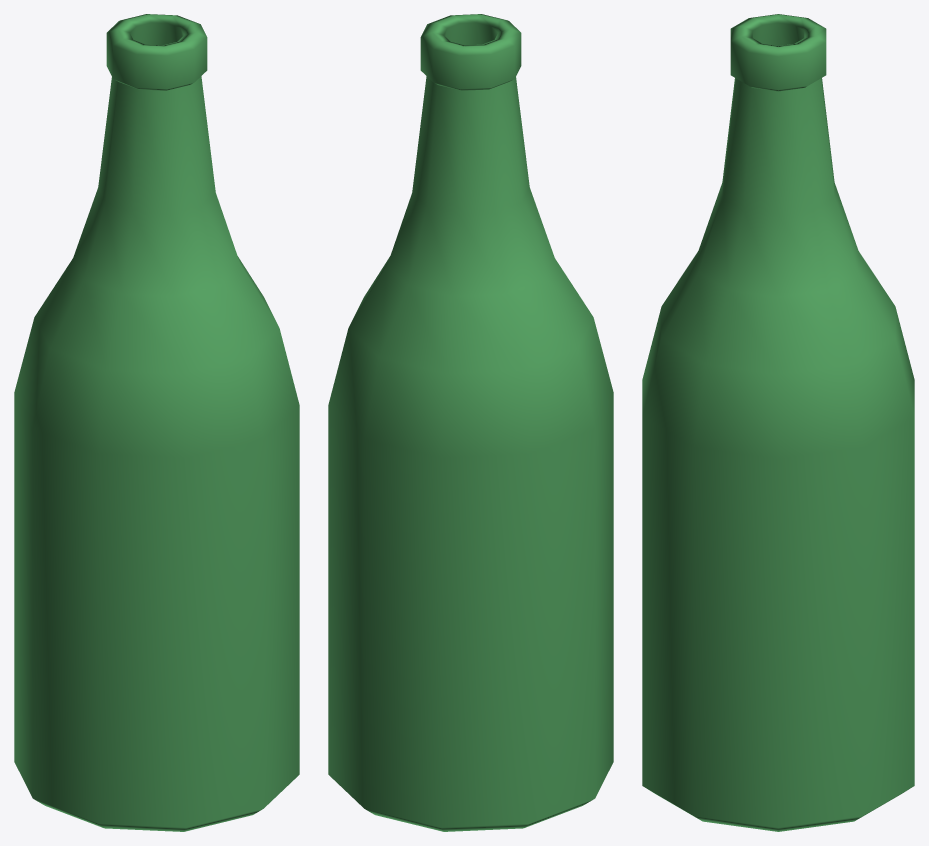
Rendered from li_bottleGlass01.fbx.
The picture shows the model from 3 angles, left to right: view 1: azimuth 30°, elevation 25°; view 2: azimuth 150°, elevation 25°; view 3: azimuth 270°, elevation 25°; orthographic projection.
Parts seen in each view (by area): view 1: li_bottleGlass01; view 2: li_bottleGlass01; view 3: li_bottleGlass01.
Part boxes in pixels (x1,y1,x2,y2): li_bottleGlass01: [14, 14, 299, 831]; li_bottleGlass01: [328, 14, 613, 831]; li_bottleGlass01: [642, 14, 914, 831].
Size of the model in its own units: 11.74 by 33.79 by 11.17.
